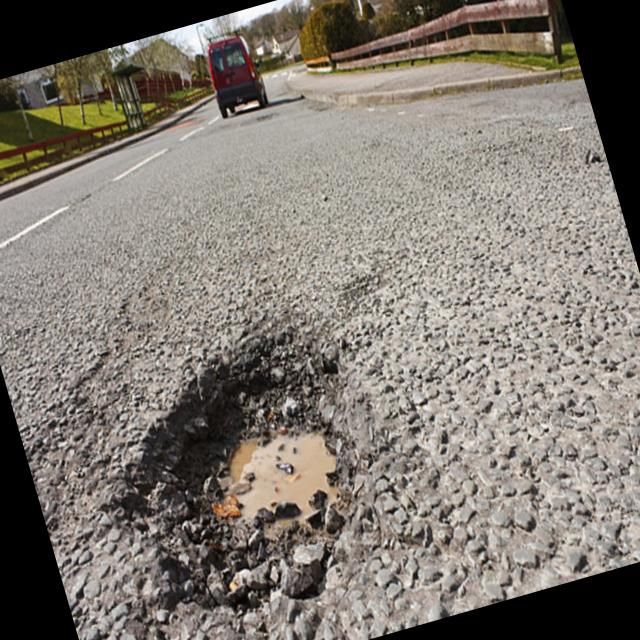Potholes: (50, 275, 446, 640)
